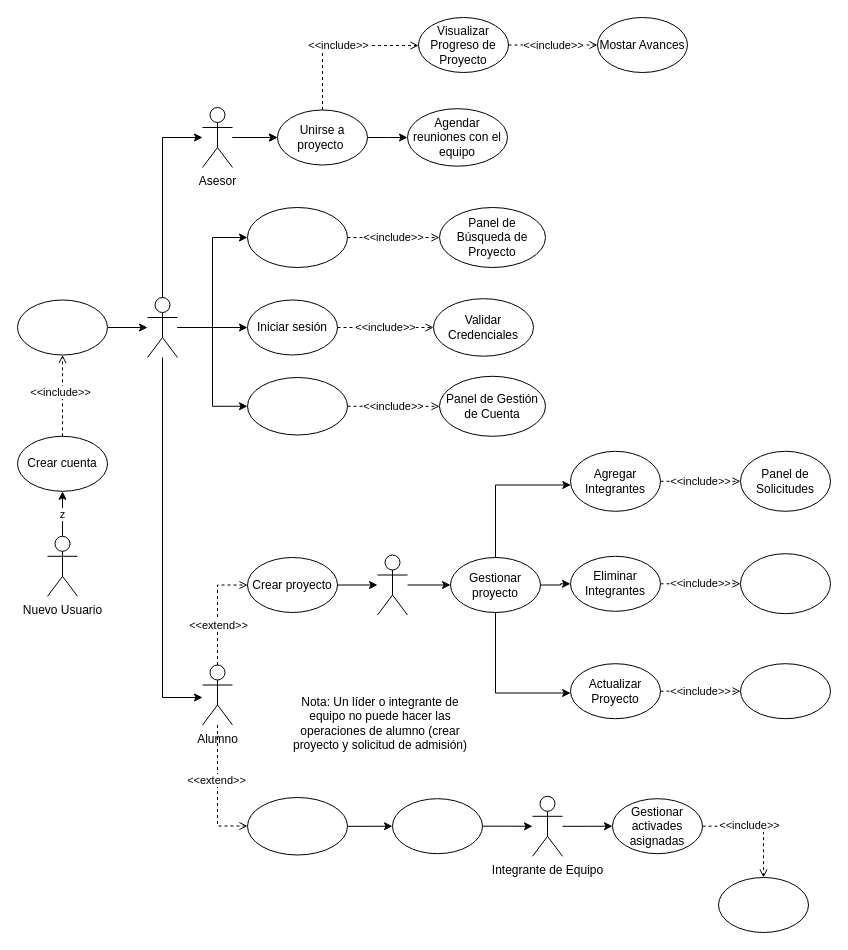
Image size: 848x950. Some labels were removed from this diagram. The shapes that lost their labels are listed below. From the top down, each one's box as (x1, y1, x2, y2) in pixels, then its label:
(246, 206, 348, 268): Buscar proyectos
(16, 299, 108, 355): Validar Correo
(146, 296, 178, 358): Usuario
(246, 376, 348, 435): Actualizar datos de perfil y cuenta
(376, 554, 408, 615): Líder de Equipo
(740, 553, 830, 614): Panel de Integrantes
(740, 663, 830, 719): Panel Gestión de Proyecto
(246, 796, 348, 855): Solicitud de Admisión de Proyecto
(392, 798, 482, 854): Agregado a proyecto
(718, 876, 808, 932): Kaban
